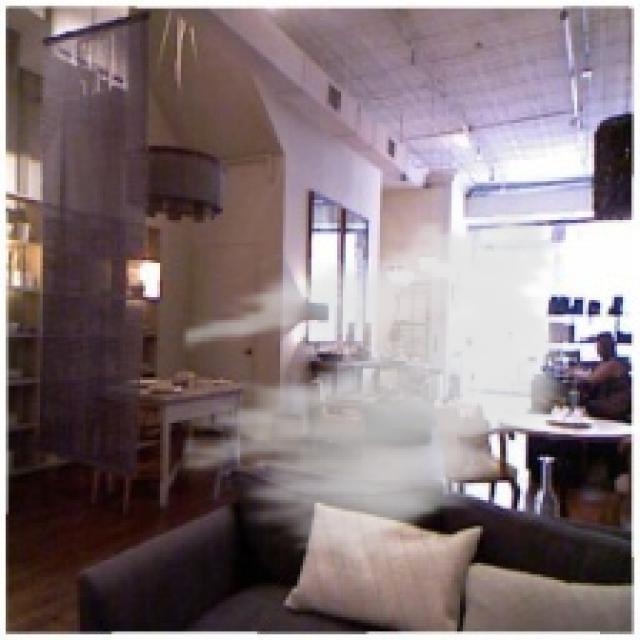Smoke: (183, 194, 583, 572)
